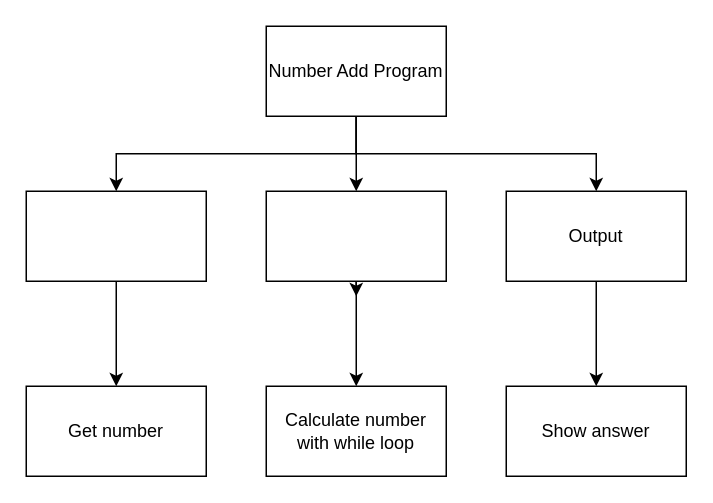
Some shapes in this 713 by 503 pixel diagram are drawn without their labels. The shapes that lost their labels are listed below. From the top down, each one's centre as x and y in pixels, then its label:
At (x=115, y=235): "Input".
At (x=355, y=235): "Process".
